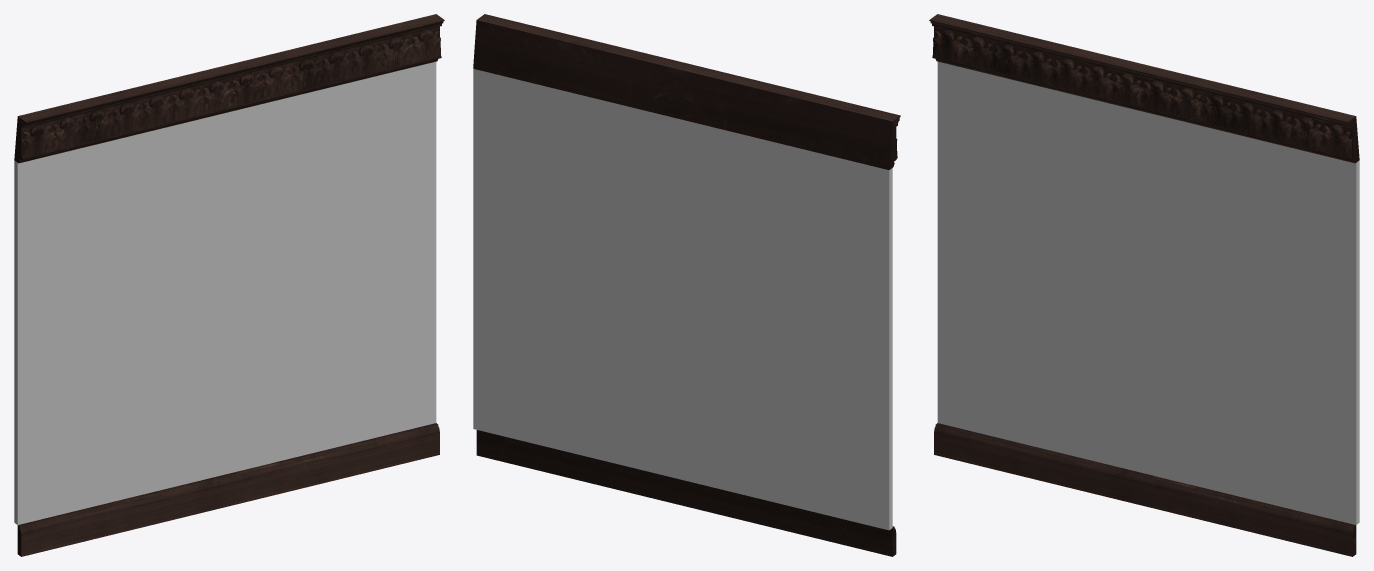
Rendered from R1_Wall.fbx.
3 views of the same model, side by side, from view 1: azimuth 30°, elevation 25°; view 2: azimuth 150°, elevation 25°; view 3: azimuth 330°, elevation 25° (orthographic).
Visible parts, largest first — view 1: SM_Wall_02_LOD0; view 2: SM_Wall_02_LOD0; view 3: SM_Wall_02_LOD0.
Boxes of the visible parts, <box> form: SM_Wall_02_LOD0: <box>14,14,444,556</box>; SM_Wall_02_LOD0: <box>473,14,900,556</box>; SM_Wall_02_LOD0: <box>929,14,1359,556</box>.
Bounding box in the file's own units: 400 × 400 × 19.24.
